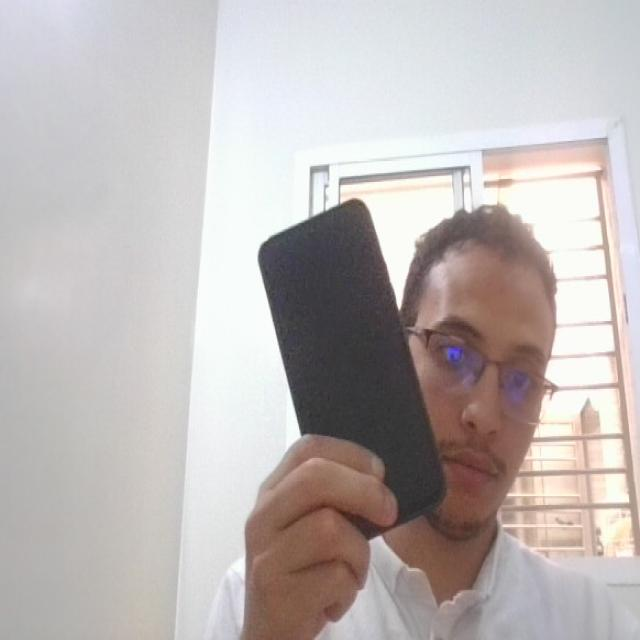phone: (251, 191, 453, 545)
